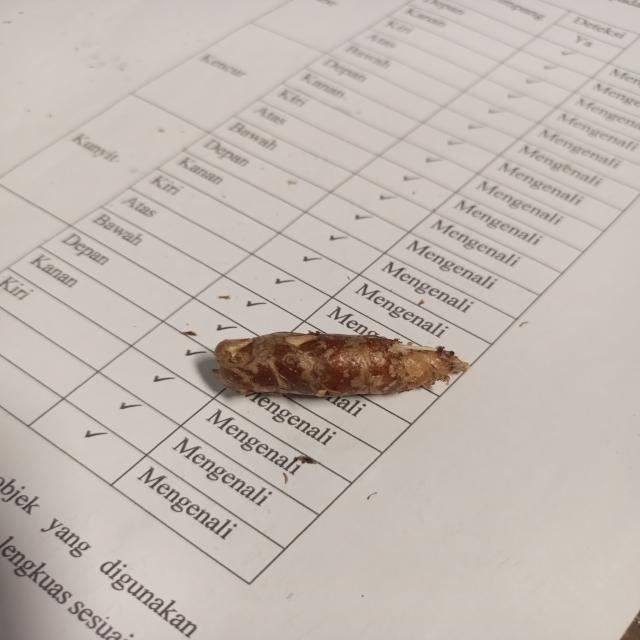ginger: (228, 330, 472, 400)
